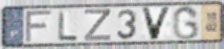3: (116, 8, 138, 40)
F: (24, 8, 55, 44)
G: (172, 5, 201, 42)
L: (57, 9, 79, 43)
V: (139, 6, 173, 42)
Z: (83, 8, 112, 42)
